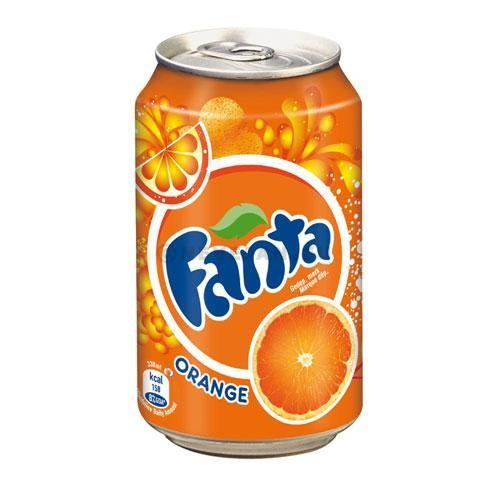metal: (136, 29, 363, 458)
